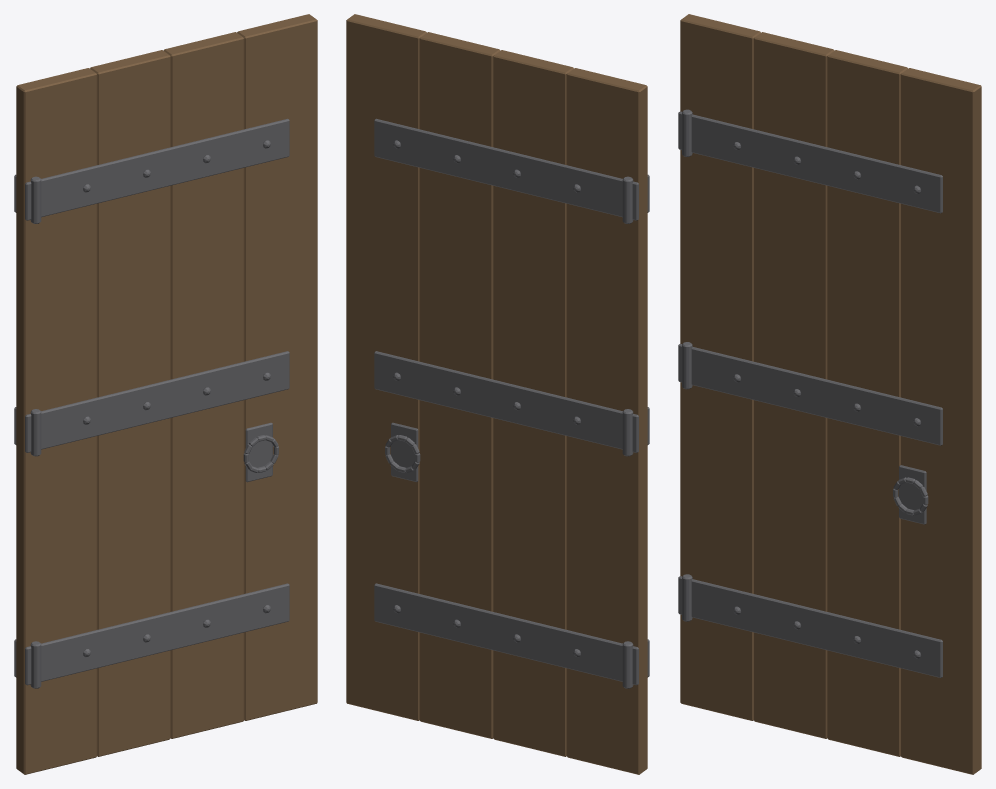
Rendered from SM_Door_Leaf_Iron.fbx.
The picture shows the model from 3 angles, left to right: view 1: azimuth 30°, elevation 25°; view 2: azimuth 150°, elevation 25°; view 3: azimuth 330°, elevation 25°; orthographic projection.
Parts seen in each view (by area): view 1: SM_Door_Leaf_Iron; view 2: SM_Door_Leaf_Iron; view 3: SM_Door_Leaf_Iron.
Part boxes in pixels (left/top/right/bottom): SM_Door_Leaf_Iron: left=14, top=14, right=317, bottom=774; SM_Door_Leaf_Iron: left=346, top=14, right=649, bottom=774; SM_Door_Leaf_Iron: left=678, top=14, right=981, bottom=774.
Bounding box in the file's own units: 0.98 × 2.18 × 0.1037.
